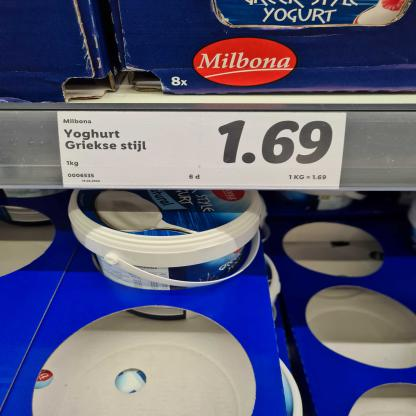prtg: (57, 111, 349, 190)
